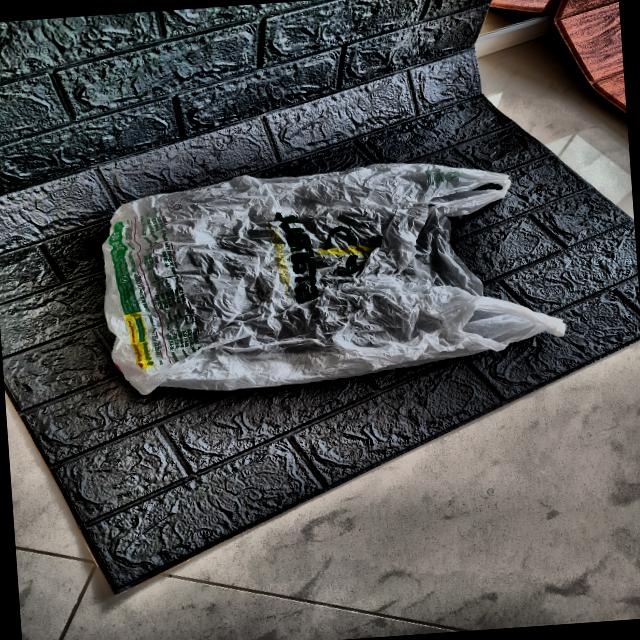plastic bag: (94, 149, 563, 402)
